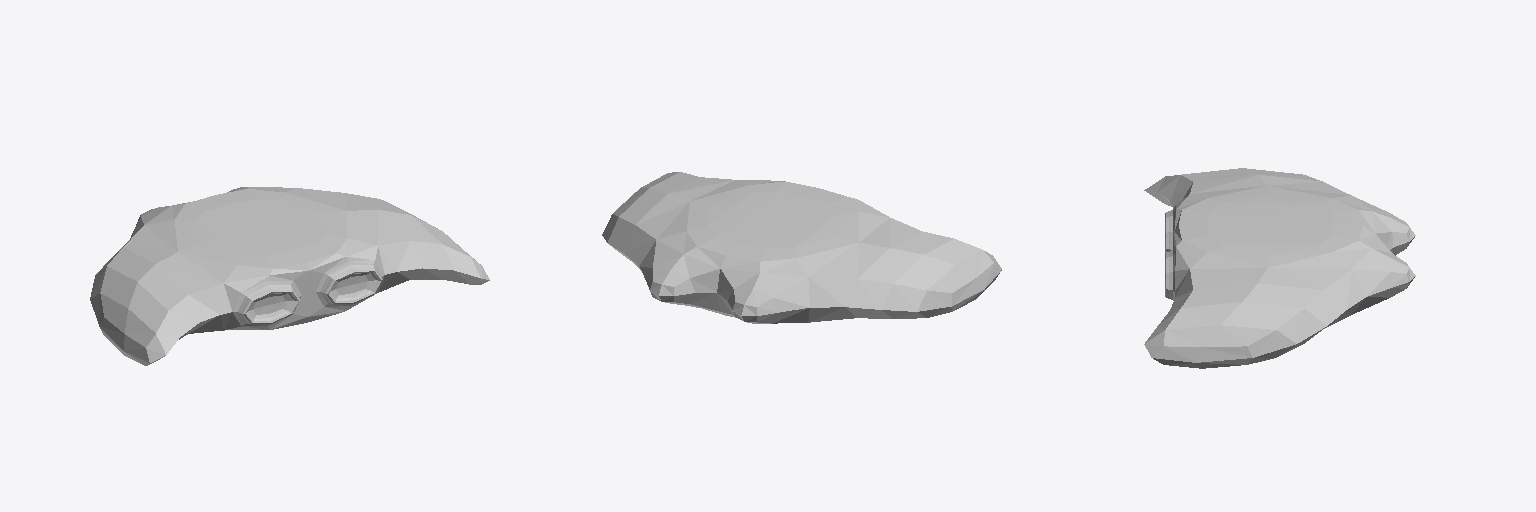
The model's file is spacecraft.obj.
3 renders of one model, left to right at view 1: azimuth 30°, elevation 25°; view 2: azimuth 150°, elevation 25°; view 3: azimuth 270°, elevation 25°, orthographic.
Parts seen in each view (by area): view 1: Cube; view 2: Cube; view 3: Cube.
Boxes of the visible parts, box(x1,y1,x2,y2) form: Cube: box(90, 187, 489, 365); Cube: box(602, 172, 1001, 323); Cube: box(1144, 168, 1415, 368).
Size of the model in its own units: 4.22 by 0.7501 by 2.85.